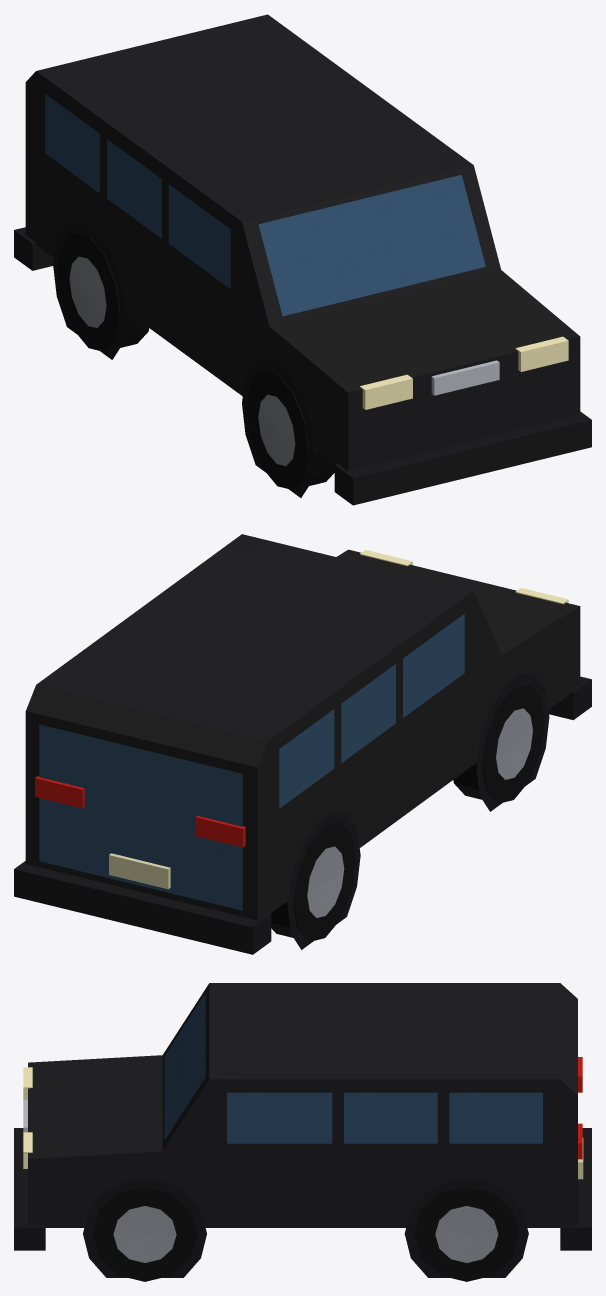
Rendered from suv-black.glb.
3 views of the same model, one above another, from view 1: azimuth 30°, elevation 25°; view 2: azimuth 150°, elevation 25°; view 3: azimuth 270°, elevation 25° (orthographic). The views are drawn at different scales.
Parts seen in each view (by area): view 1: suv-black, wheel_rr, wheel_fr; view 2: suv-black, wheel_fr, wheel_rr; view 3: suv-black, wheel_rl, wheel_fl.
Part boxes in pixels (<box>): suv-black: <box>14,14,591,505</box>; wheel_rr: <box>57,232,149,351</box>; wheel_fr: <box>246,370,334,489</box>; suv-black: <box>14,534,591,954</box>; wheel_fr: <box>453,684,544,803</box>; wheel_rr: <box>271,822,355,941</box>; suv-black: <box>14,983,591,1277</box>; wheel_rl: <box>414,1186,519,1281</box>; wheel_fl: <box>92,1186,197,1281</box>.
Size of the model in its own units: 2.01 by 1.9 by 4.94.
1 material, 1 textured.
